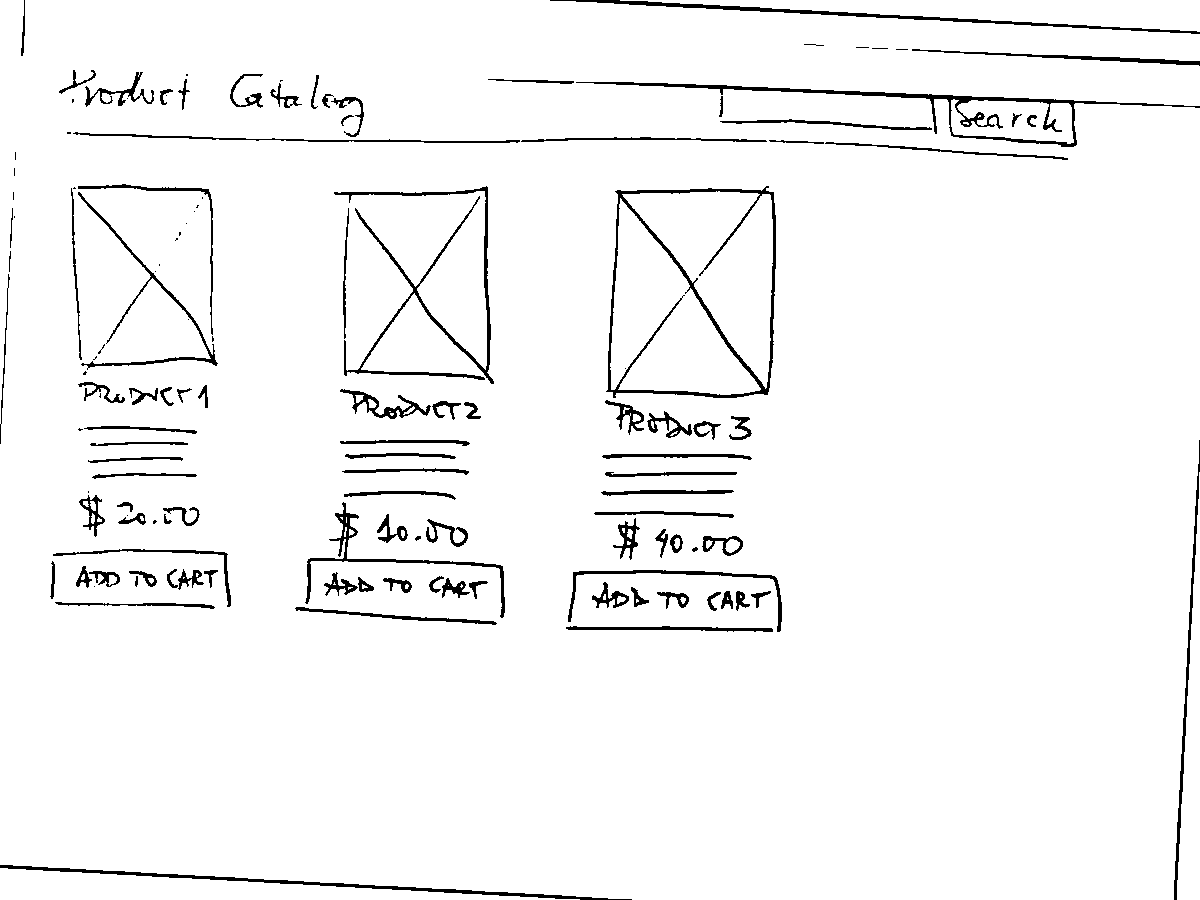Button: (295, 551, 516, 634), (558, 564, 791, 639), (42, 542, 236, 613), (945, 87, 1082, 148)
Image: (601, 182, 783, 403), (332, 184, 499, 385), (66, 179, 219, 372)
Textbox: (713, 79, 942, 138)
